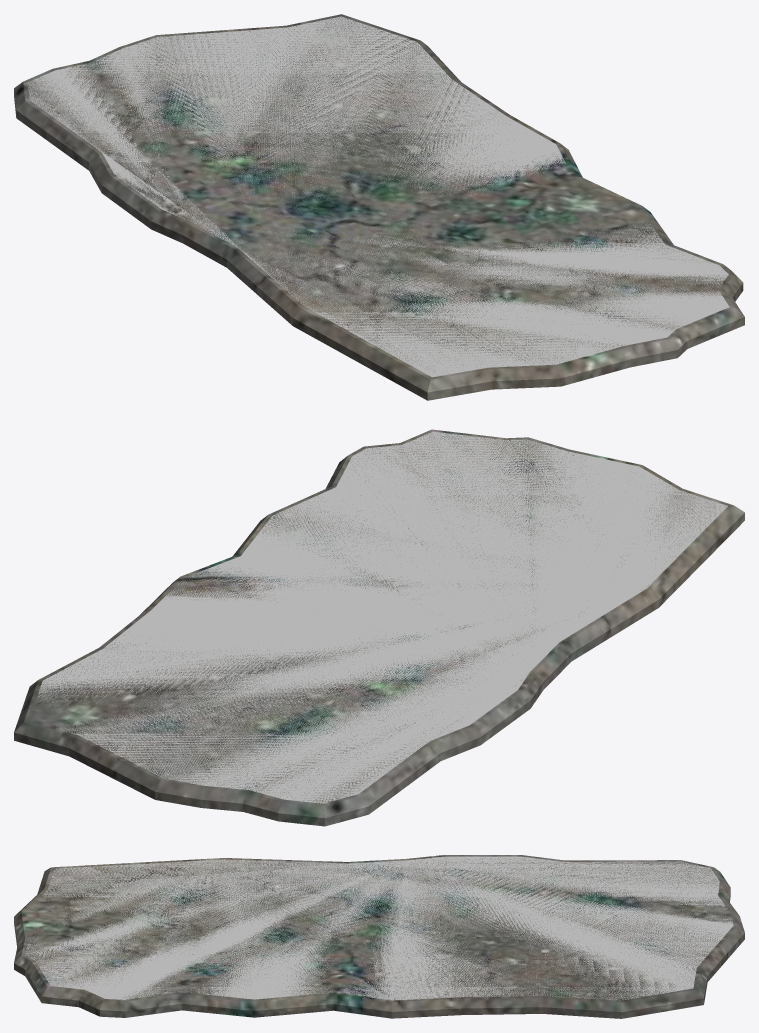
File: cf_forest_c.obj
3 views of the same model, one above another, from view 1: azimuth 30°, elevation 25°; view 2: azimuth 150°, elevation 25°; view 3: azimuth 270°, elevation 25° (orthographic). The views are drawn at different scales.
Visible parts, largest first — view 1: forest_Plane.001; view 2: forest_Plane.001; view 3: forest_Plane.001.
Boxes of the visible parts, bbox=[...] form: forest_Plane.001: bbox=[14, 14, 744, 400]; forest_Plane.001: bbox=[14, 429, 744, 826]; forest_Plane.001: bbox=[14, 855, 744, 1018].
Bounding box in the file's own units: 9.89 × 0.4 × 19.88.
Materials: 1 (1 with a texture image).
